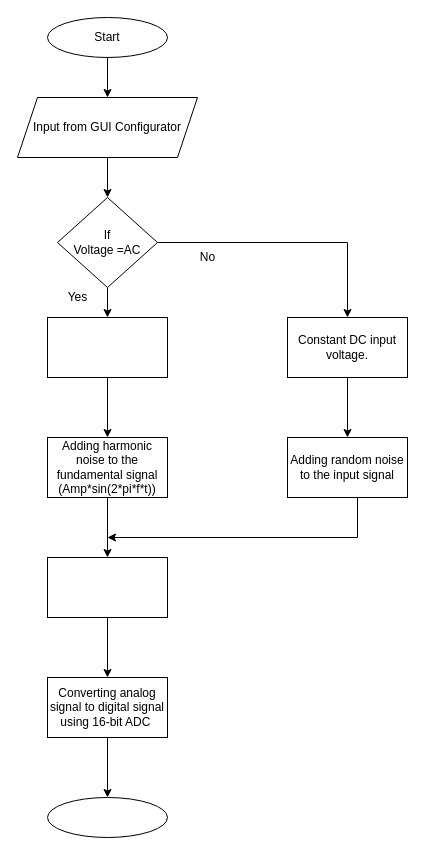
This 425x855 diagram has some shape labels left out. Here are the shapes that lost their labels. From the top down, the centre of each, then its label:
At [107,347]: "Amp*sin(2*pi*f*t)".
At [107,587]: "calculating attenuation factor".
At [107,817]: "Stop".
